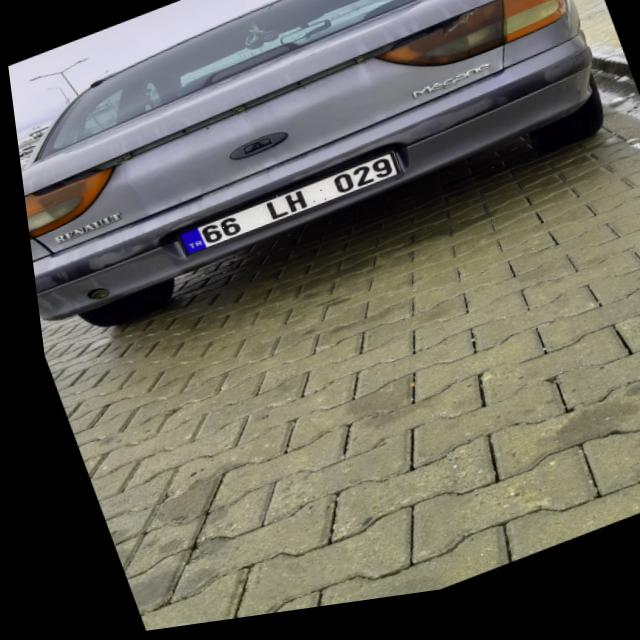license_plate: (167, 162, 398, 261)
